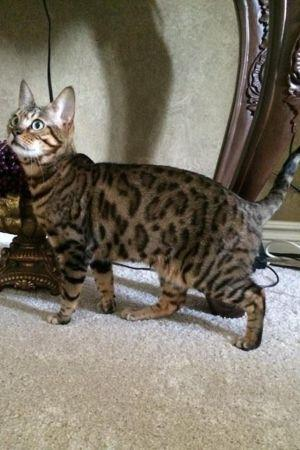bengal: (1, 74, 81, 165)
